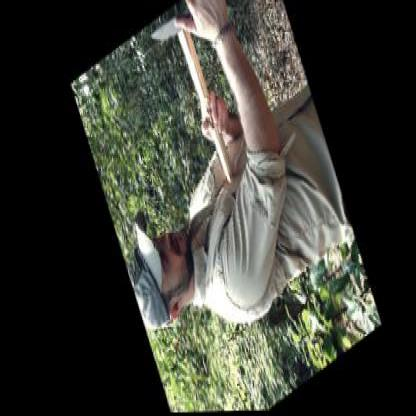knife: (141, 0, 238, 73)
